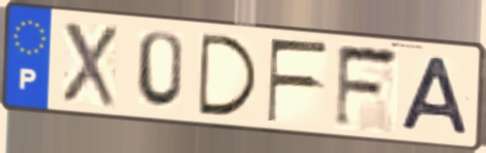0: (132, 29, 185, 112)
A: (397, 54, 473, 138)
D: (196, 30, 262, 119)
F: (331, 42, 403, 132), (264, 37, 331, 125)
X: (59, 19, 119, 110)
